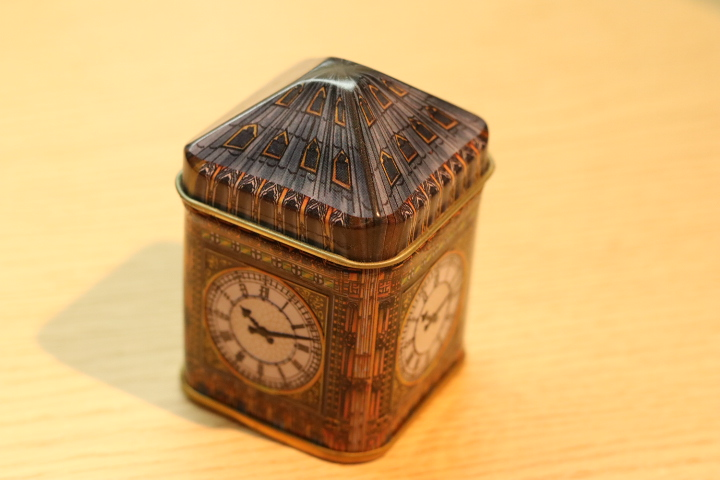Big Ben: (154, 29, 521, 473)
